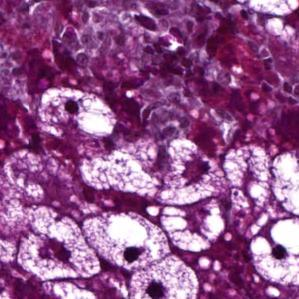ballooning: (79, 208, 174, 273), (38, 84, 120, 143), (159, 195, 228, 253), (247, 217, 299, 289), (268, 145, 299, 220)
